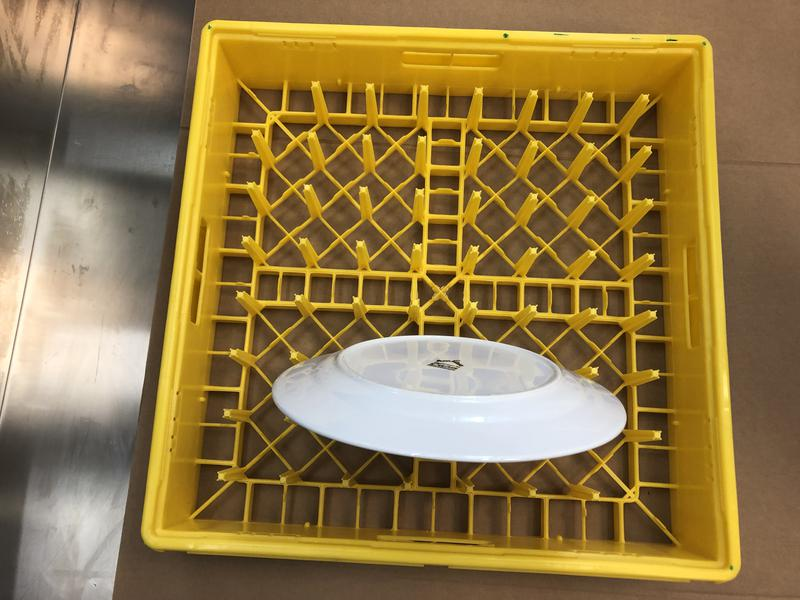Inclined_dish: (272, 332, 627, 464)
